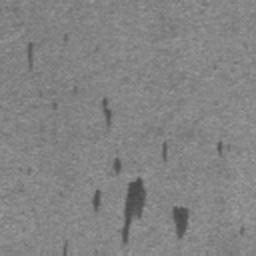Red iron sheet: (120, 175, 147, 248), (172, 206, 191, 239), (101, 97, 114, 125), (27, 42, 35, 70), (92, 188, 101, 210), (161, 141, 168, 164), (113, 159, 123, 175), (61, 242, 68, 256), (216, 142, 223, 154)
